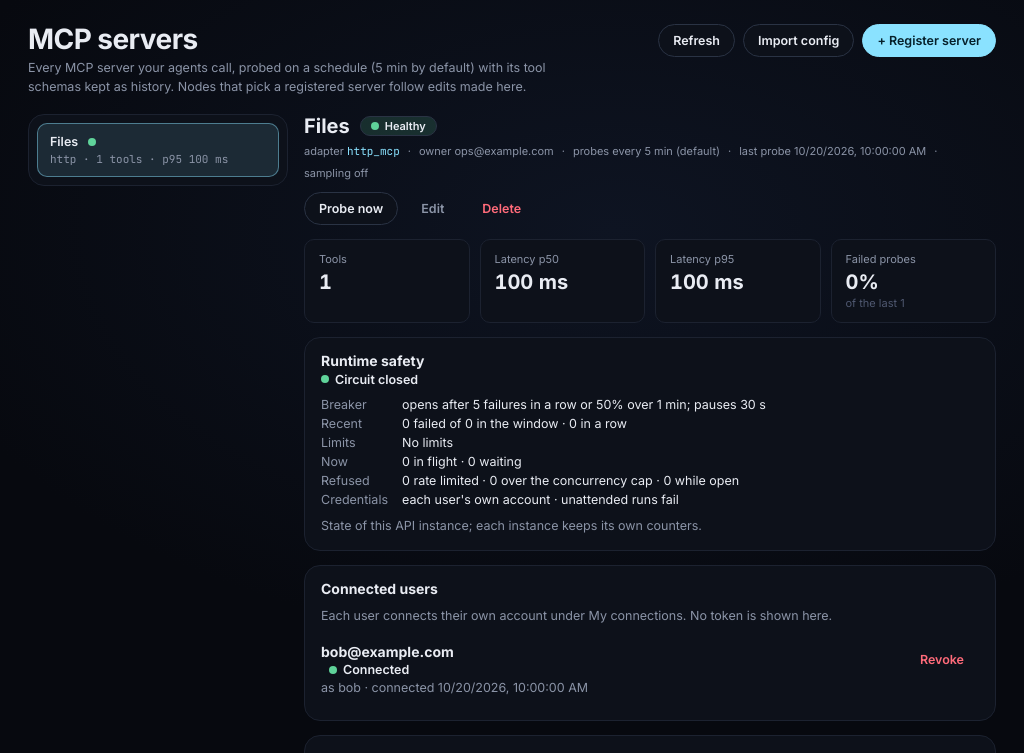
Scenario: registry page runtime safety › lists who connected to a delegated server and revokes one
The width and height of the screenshot is (1024, 753).
Check: the text "bob@example.com" is shown, box [321, 643, 454, 660]
Click the button "Revoke". click: (942, 660)
box: [905, 643, 979, 676]
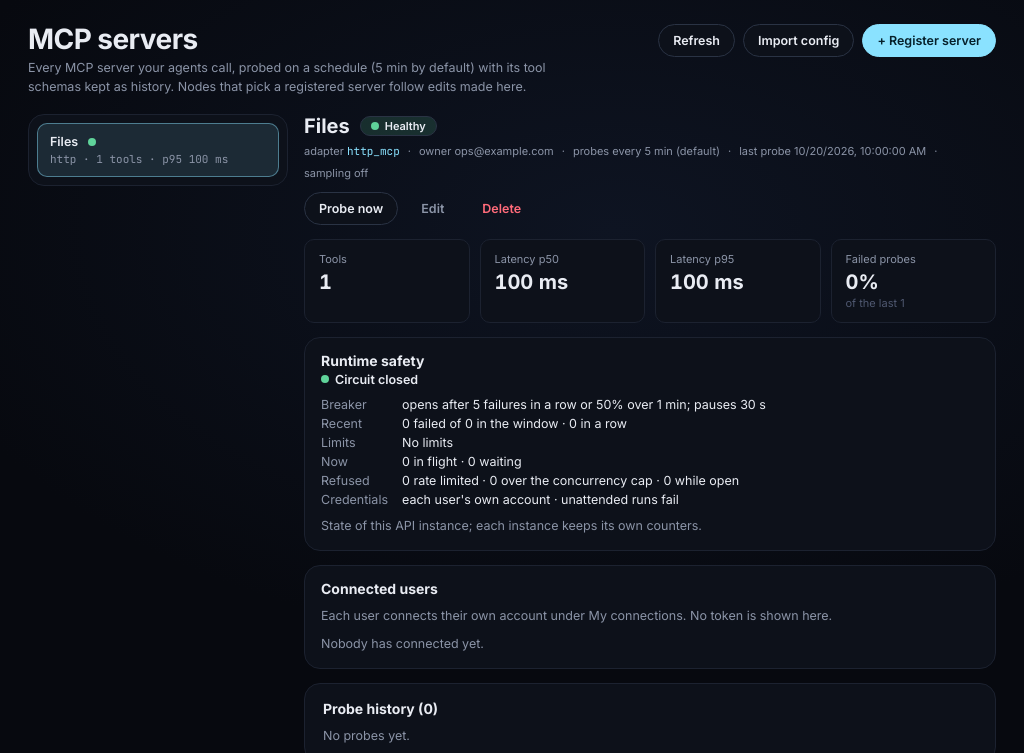
Check: the text "Nobody has connected yet." is shown, box [321, 636, 484, 651]
